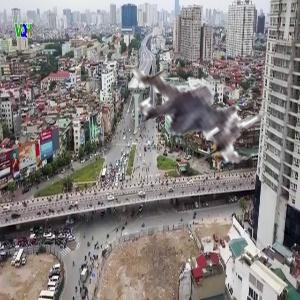drone: (116, 22, 280, 186)
